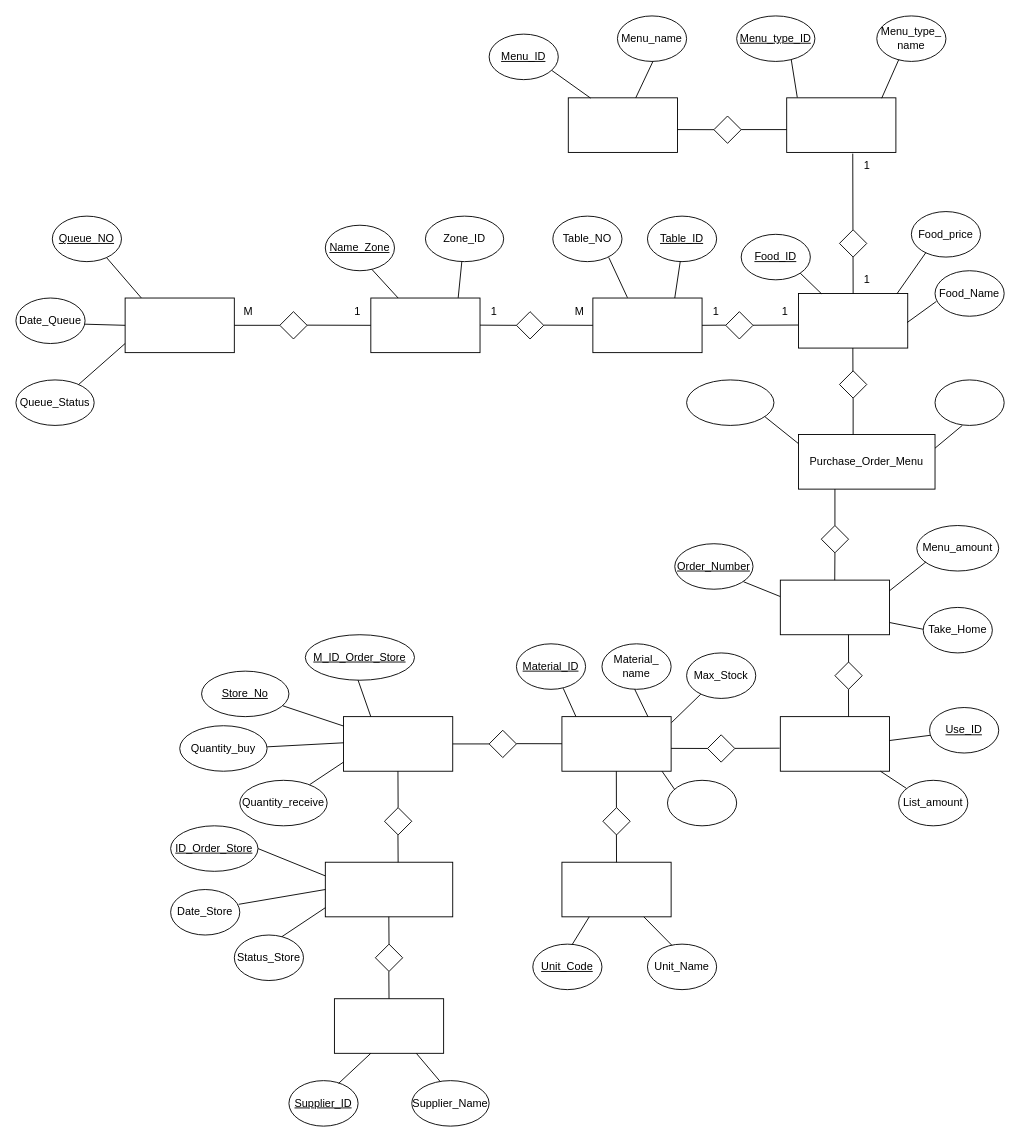
The diagram is 1020 pixels wide and 1142 high, and some of its shapes have lost their labels. Each missing label, with the box of its shape:
Bill_Status: (934, 379, 1004, 425)
Food_List: (798, 293, 908, 348)
M_Material: (561, 716, 671, 771)
M_Unit_Name: (561, 861, 671, 917)
Material_ use _menu: (779, 716, 890, 771)
Menu_ Type: (786, 97, 896, 152)
Menu_Group: (567, 97, 677, 152)
Menu_List: (779, 579, 890, 635)
N_Stock: (667, 779, 737, 826)
Order_Store: (343, 716, 453, 771)
Purchase_Order: (686, 379, 774, 425)
Purchase_Order_Store: (324, 861, 453, 917)
Q_Queue: (124, 297, 234, 353)
Supplier: (334, 998, 444, 1053)
T_Table: (592, 297, 702, 353)
Zone: (370, 297, 480, 353)
